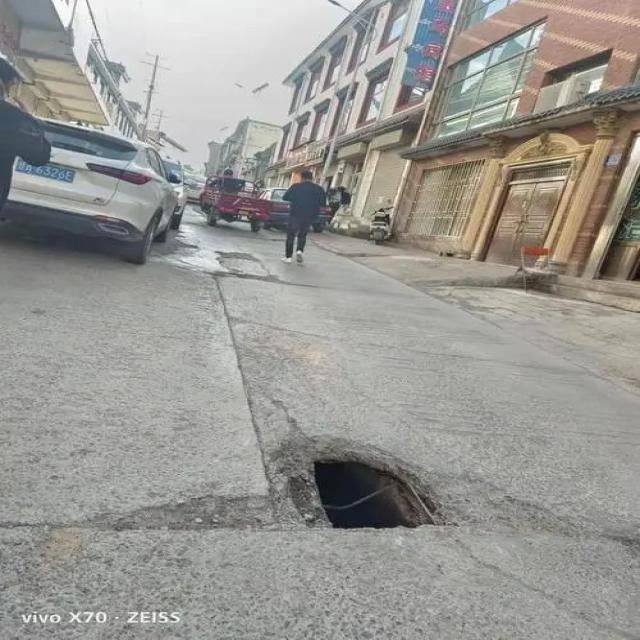Pothole: (251, 418, 471, 538), (201, 247, 276, 284)
